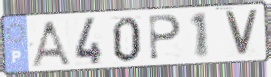0: (110, 15, 143, 64)
1: (189, 10, 210, 60)
4: (73, 16, 105, 68)
A: (29, 20, 73, 69)
P: (148, 14, 183, 62)
V: (222, 9, 260, 58)
